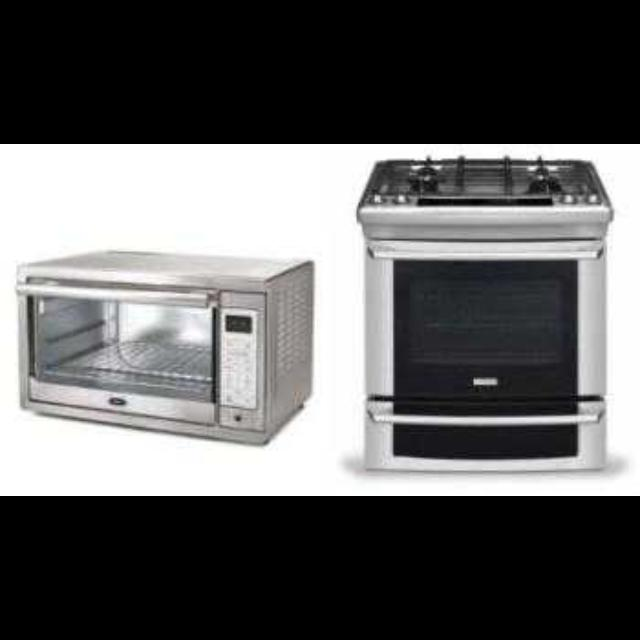Oven: (360, 203, 606, 471), (16, 260, 284, 440)
